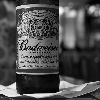beer: (18, 2, 60, 93)
